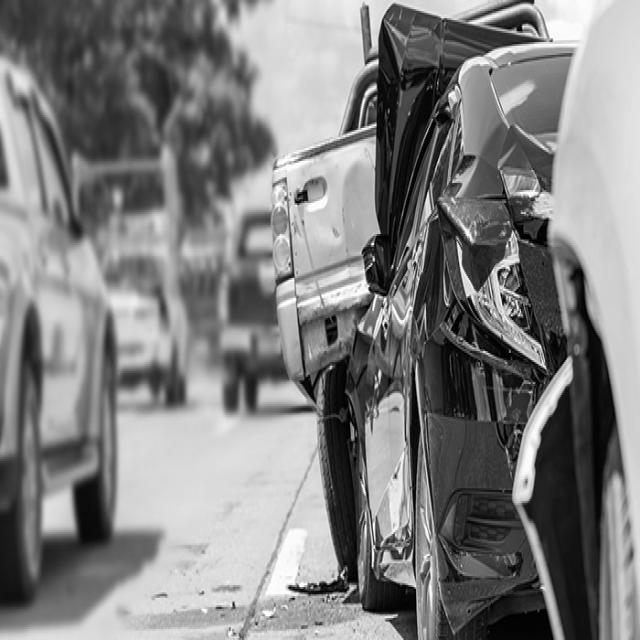crush: (344, 4, 571, 634)
dent: (322, 148, 377, 261)
missing: (296, 258, 374, 375)
